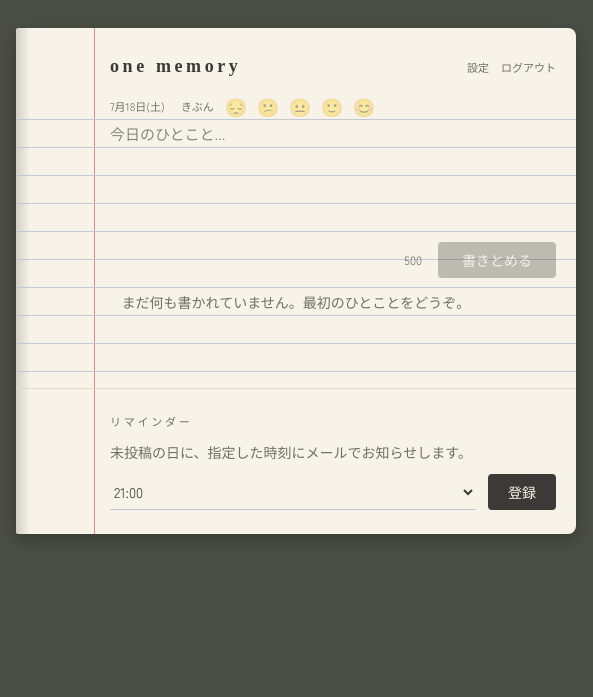
Scenario: App › 認証 › ログアウトするとヒーローページに戻る
Expected: the text box with placeholder "今日のひとこと..." is shown, 110,120 -> 556,232
Click the button "ログアウト".
click(528, 67)  # box 501,59 -> 556,76
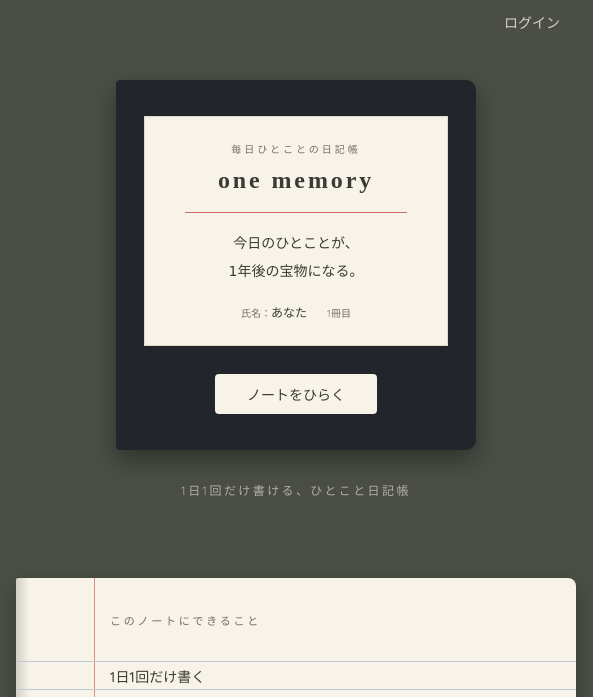
Expected: the button "ノートをひらく" is shown, 215,374 -> 377,414
